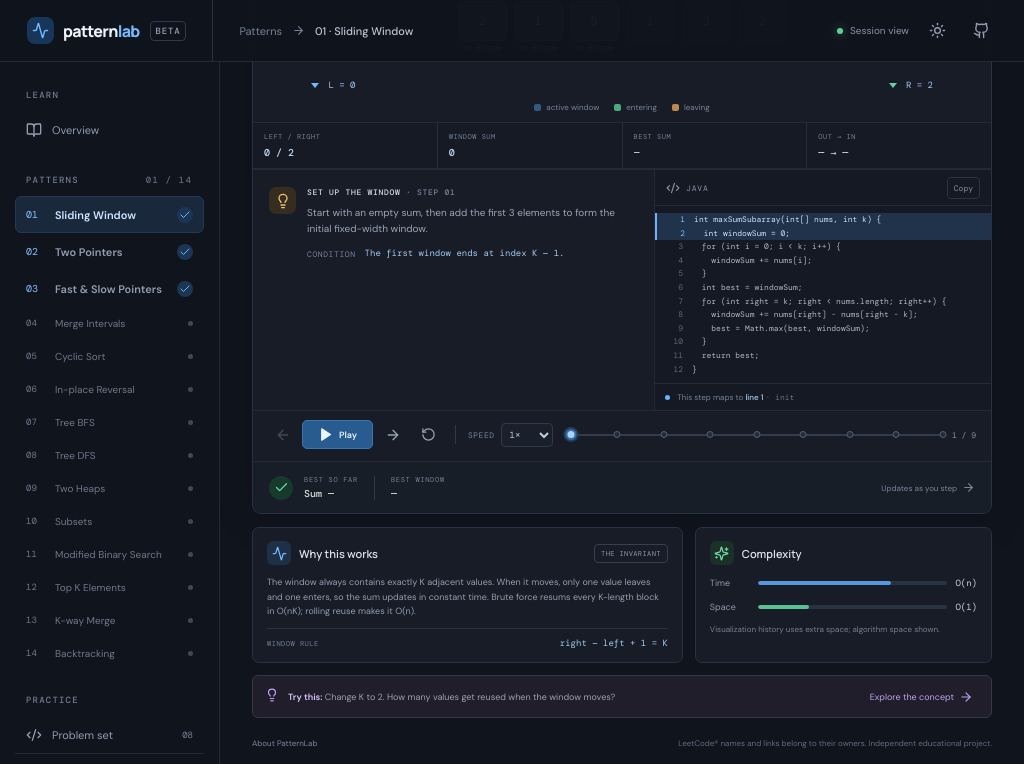
Test: PatternLab learning interface › does not let an old playback timer advance a newly generated trace
(page scrolled)
Step 1. Click the button "Play" → (338, 435), box top-left (302, 420), bottom-right (373, 449)
(page scrolled)
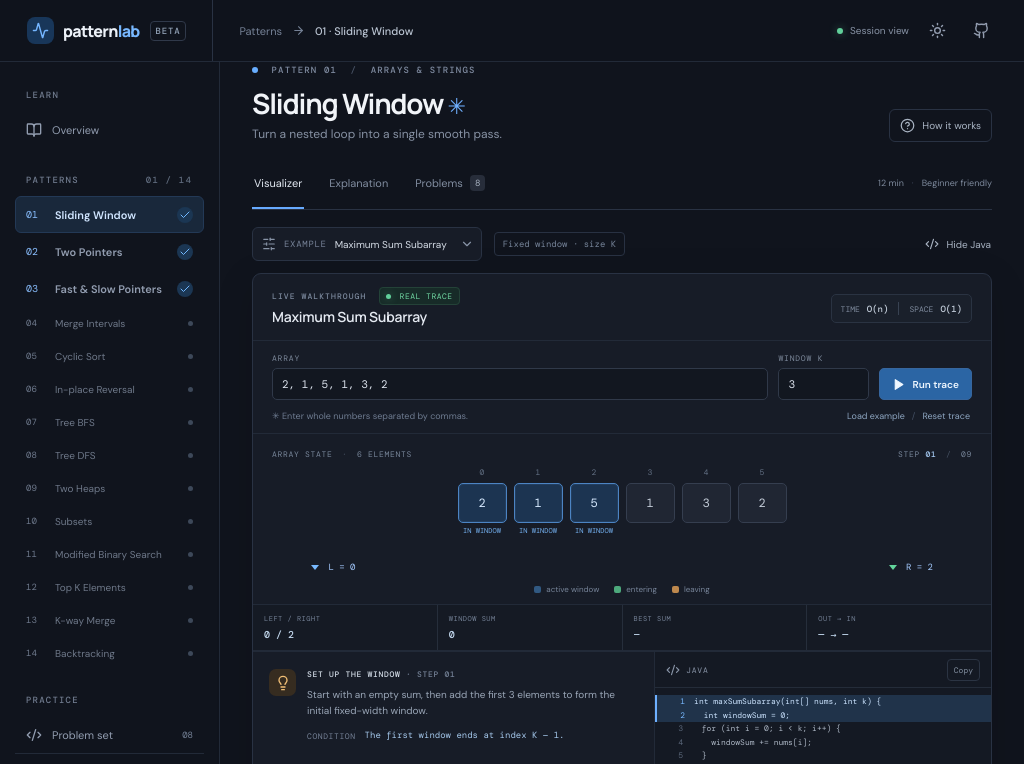
Step 2. Type "1, 2, 3" into the field named "Array input" → (520, 384), box top-left (272, 368), bottom-right (768, 400)
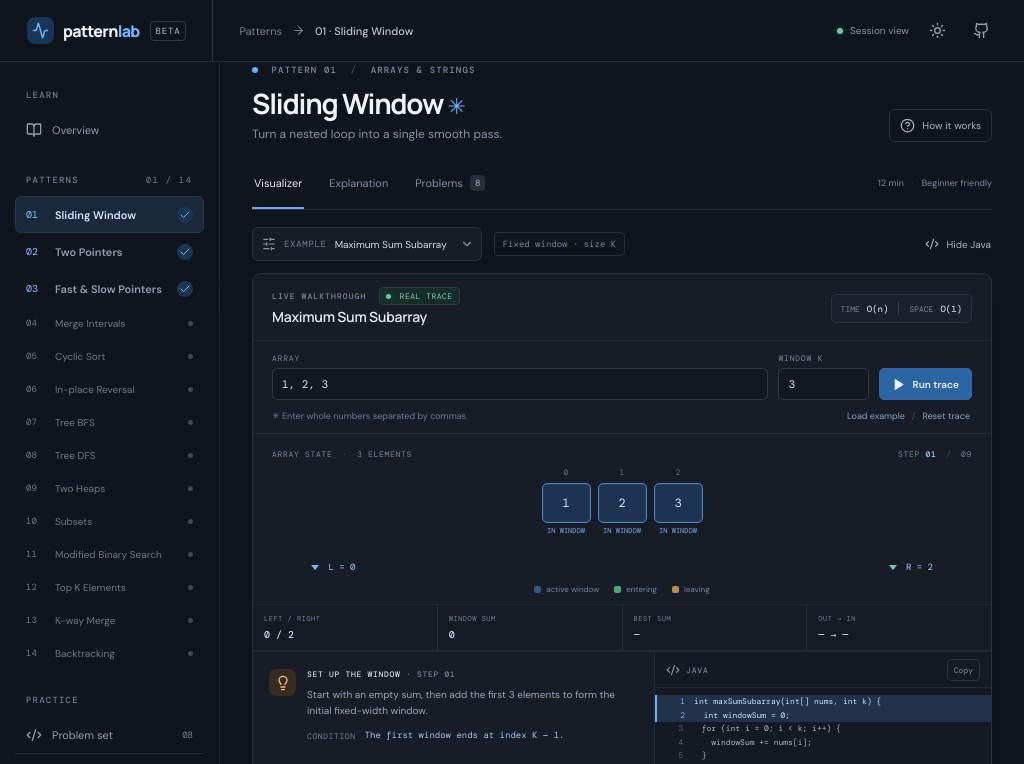
Step 3. Replace the text in the number field labelled "WINDOW K" with "2" → (824, 384), box top-left (778, 368), bottom-right (870, 400)
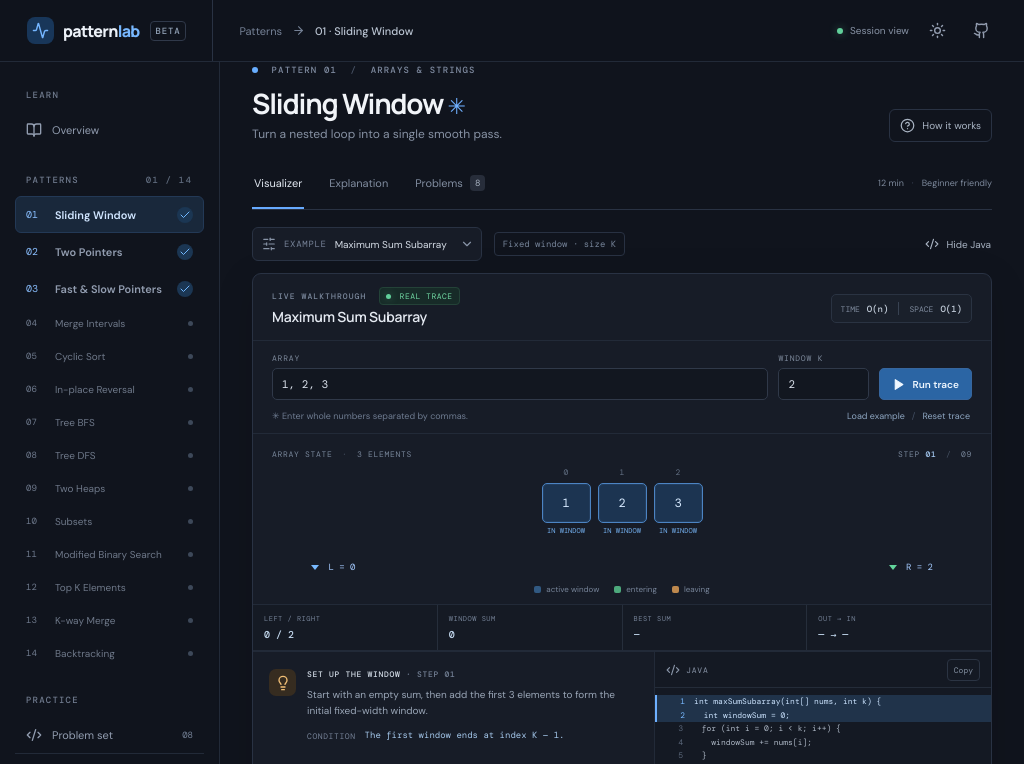
Step 4. Click the button "Run trace" → (926, 384), box top-left (880, 368), bottom-right (972, 400)
Wait 2200 ms
(page scrolled)
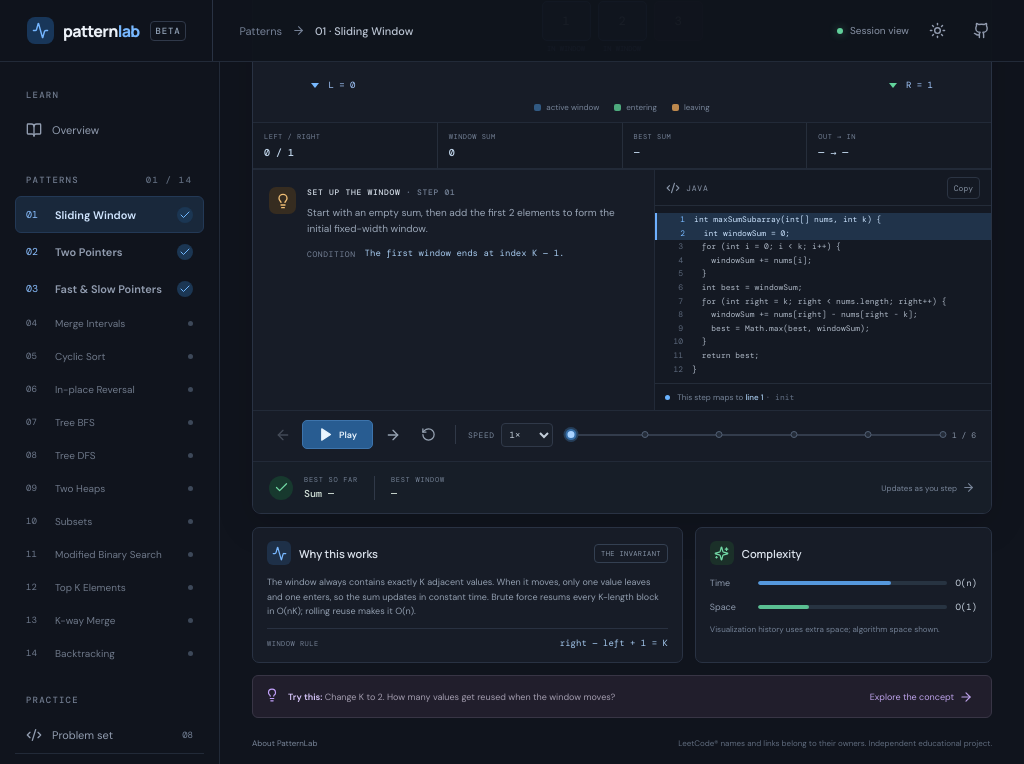
Now the text "1 / 6" is shown, box top-left (952, 430), bottom-right (976, 440)
